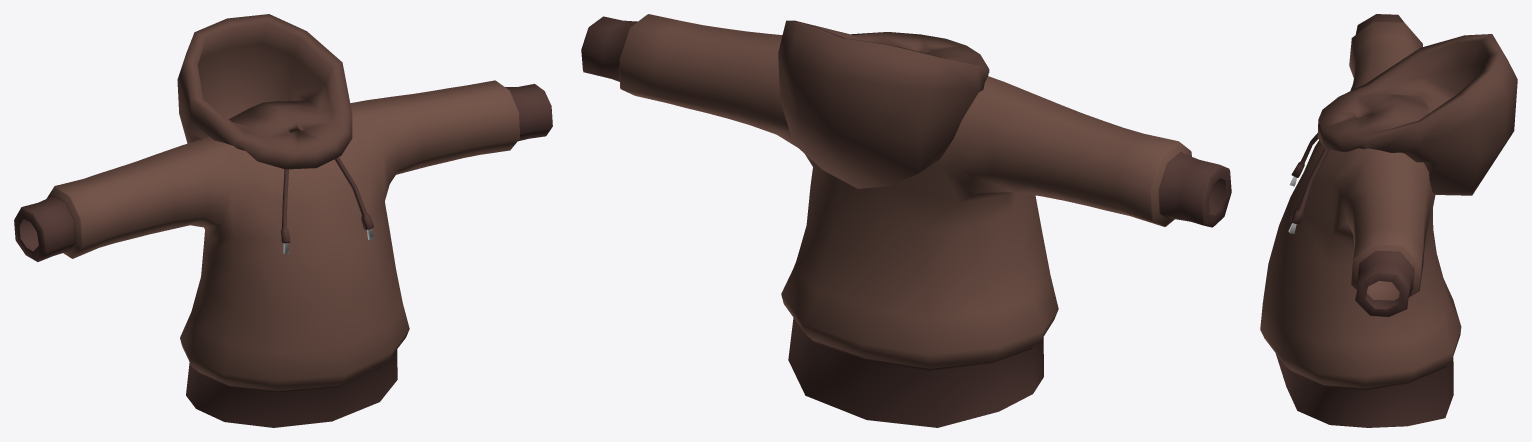
The model's file is Outerwear_Brown_001.glb.
3 renders of one model, left to right at view 1: azimuth 30°, elevation 25°; view 2: azimuth 150°, elevation 25°; view 3: azimuth 270°, elevation 25°, orthographic. The views are drawn at different scales.
Parts seen in each view (by area): view 1: Outerwear_Brown_001; view 2: Outerwear_Brown_001; view 3: Outerwear_Brown_001.
Boxes of the visible parts, box(x1,y1,x2,y2) form: Outerwear_Brown_001: box(14, 14, 552, 427); Outerwear_Brown_001: box(581, 14, 1231, 427); Outerwear_Brown_001: box(1260, 14, 1517, 427).
Size of the model in its own units: 1.27 by 0.7836 by 0.5333.
Materials: 1 (1 with a texture image).
